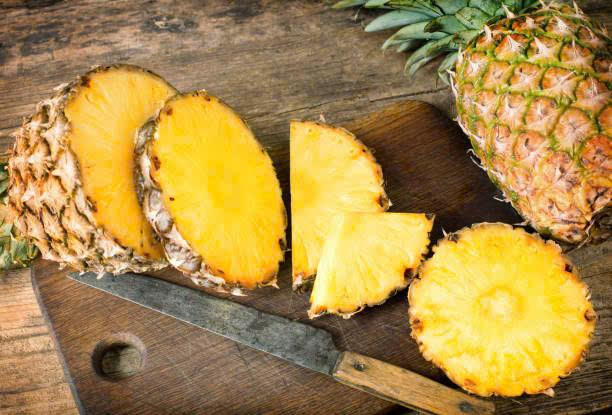pineapple: (326, 0, 611, 249), (18, 58, 290, 307), (414, 219, 597, 409), (291, 119, 438, 320)
